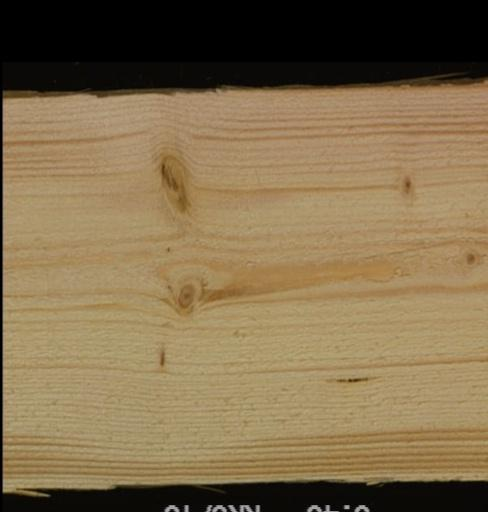small_knot: (398, 173, 411, 197), (463, 251, 475, 268), (158, 346, 165, 368)
sound_knot: (154, 153, 190, 220), (168, 279, 201, 312)
wave: (1, 88, 224, 98)
